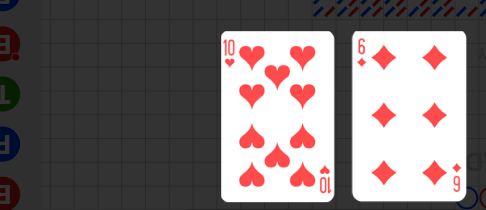10H: (222, 38, 237, 70), (318, 163, 332, 195)
